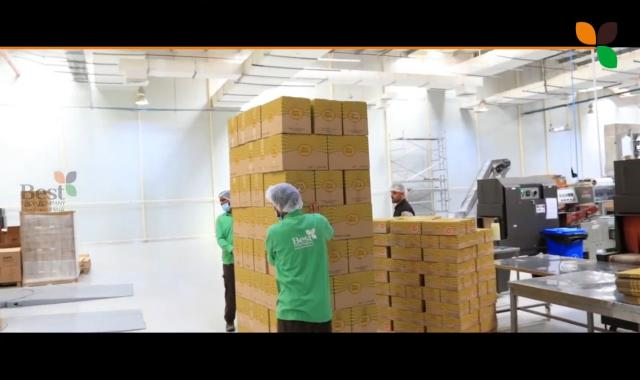hairnet: (269, 182, 302, 210), (390, 182, 406, 195), (217, 188, 232, 198)
